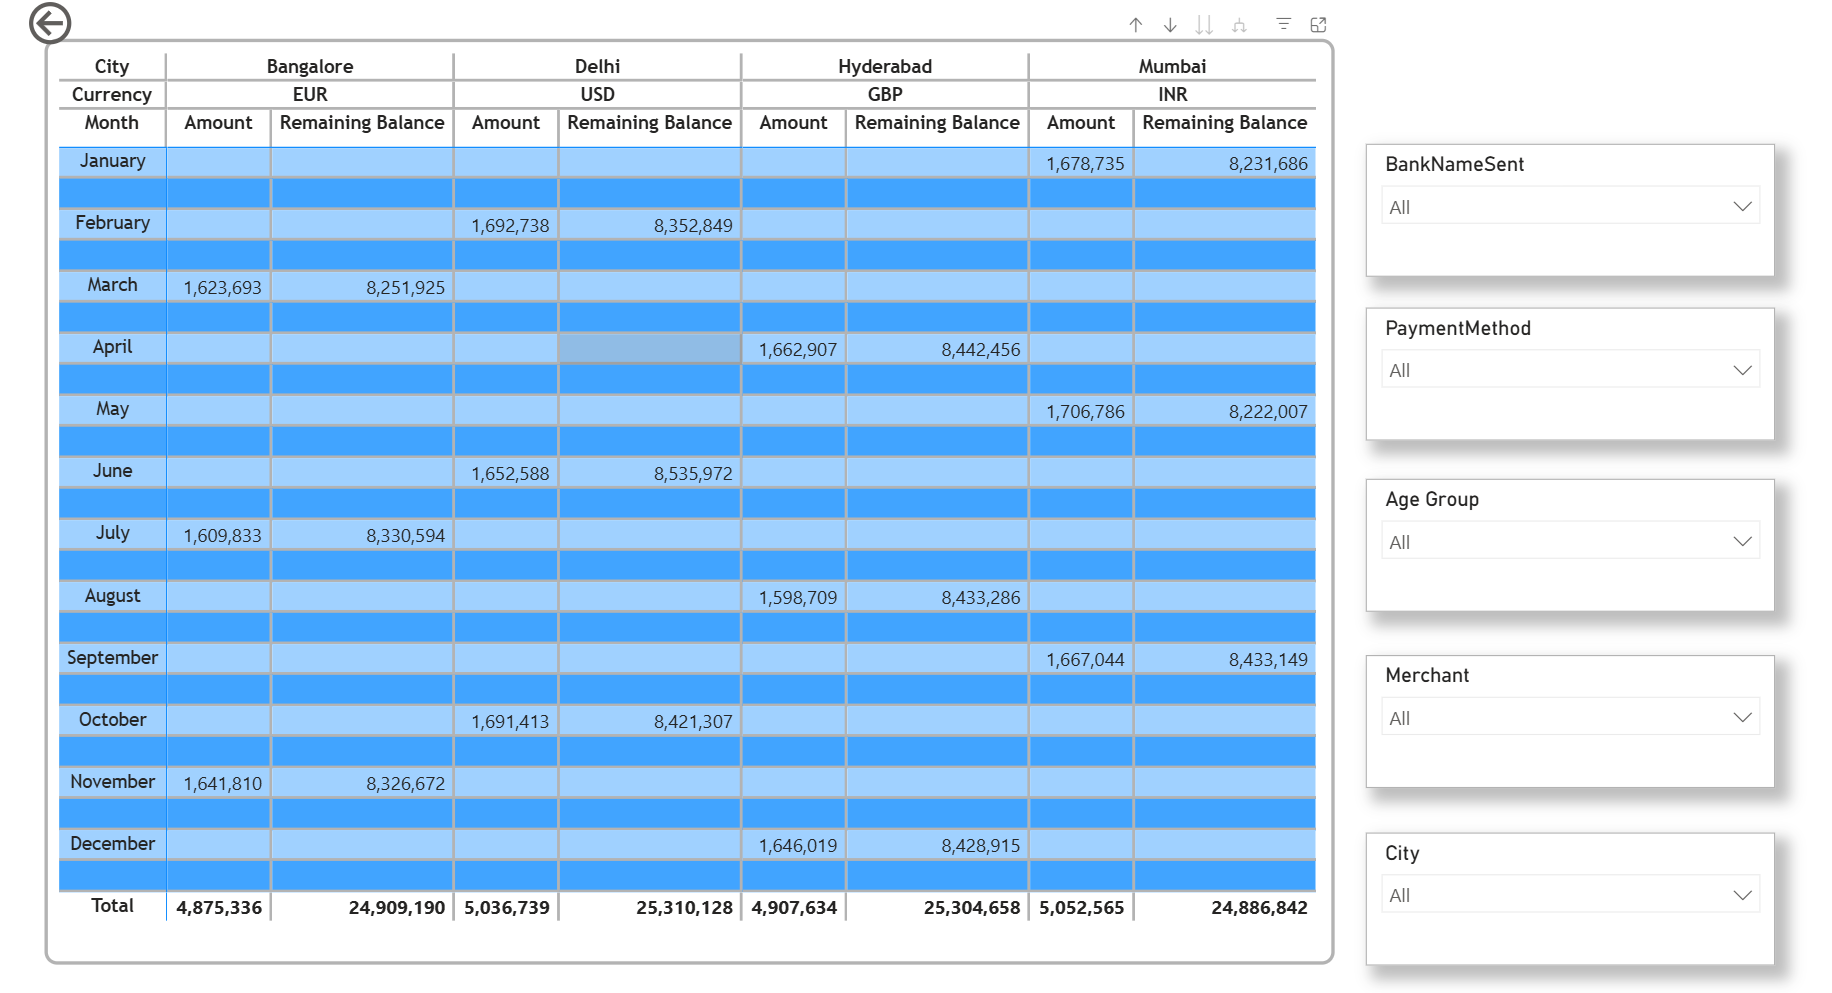

The page's visual inventory and layout, read from the dashboard file:
{"tool":"powerbi","page":{"name":"Page 2","canvas":[1280,720],"ordinal":1},"visuals":[{"type":"pivotTable","fields":{"Values":["Sum(Sheet1.Amount)","Sum(Sheet1.RemainingBalance)"],"Rows":["Sheet1.TransactionDate.Variation.Date Hierarchy.Month"],"Columns":["Sheet1.City","Sheet1.Currency"]},"box":[16.3,31.4,915.1,657],"z":0},{"type":"slicer","fields":{"Values":["Sheet1.BankNameSent"]},"box":[953.5,105.8,290.7,94.2],"z":1000},{"type":"slicer","fields":{"Values":["Sheet1.Age Group "]},"box":[953.5,343,290.7,94.2],"z":2000},{"type":"slicer","fields":{"Values":["Sheet1.MerchantName"]},"box":[953.5,468.6,290.7,94.2],"z":3000},{"type":"slicer","fields":{"Values":["Sheet1.City"]},"box":[953.5,594.2,290.7,94.2],"z":4000},{"type":"actionButton","box":[0,0,100,40],"z":5000},{"type":"slicer","fields":{"Values":["Sheet1.PaymentMethod"]},"box":[953.5,222.1,290.7,94.2],"z":6000}]}

Visuals, with their boxes in screenshot pixels (x1, y1, x2, y2):
pivotTable - Sum(Sheet1.Amount) x Sum(Sheet1.RemainingBalance): (42, 35, 1332, 961)
slicer - Sheet1.BankNameSent: (1363, 140, 1772, 272)
slicer - Sheet1.Age Group : (1363, 474, 1772, 607)
slicer - Sheet1.MerchantName: (1363, 651, 1772, 784)
slicer - Sheet1.City: (1363, 828, 1772, 961)
actionButton: (19, 0, 160, 47)
slicer - Sheet1.PaymentMethod: (1363, 303, 1772, 436)
